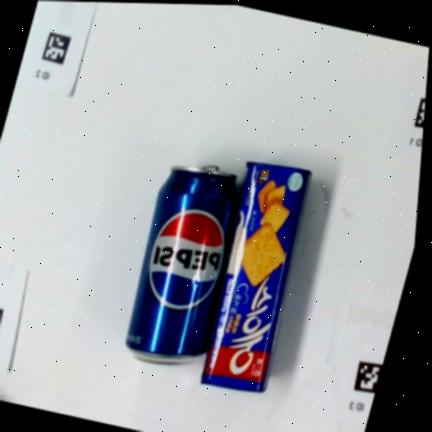can_pepsi: (126, 166, 239, 364)
cracker_ace: (202, 162, 312, 392)
